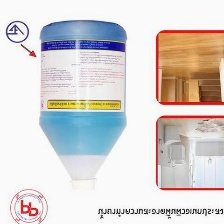cleaning_solution: (36, 18, 130, 193)
